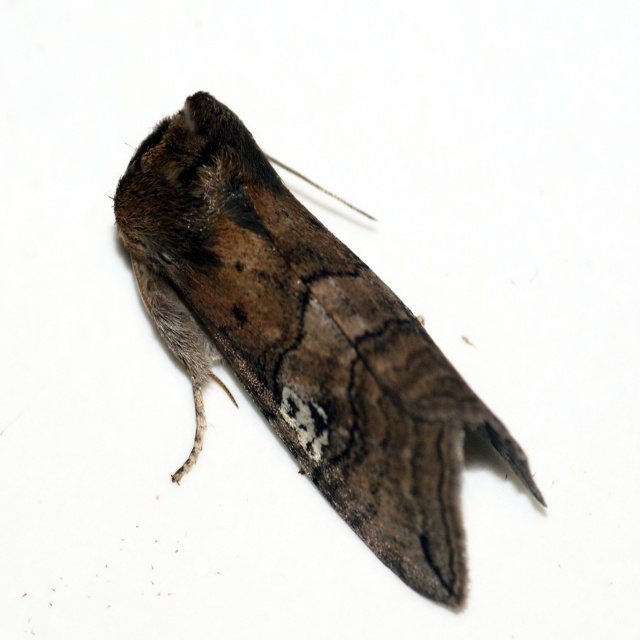Moths and butterflies: (103, 87, 550, 615)
